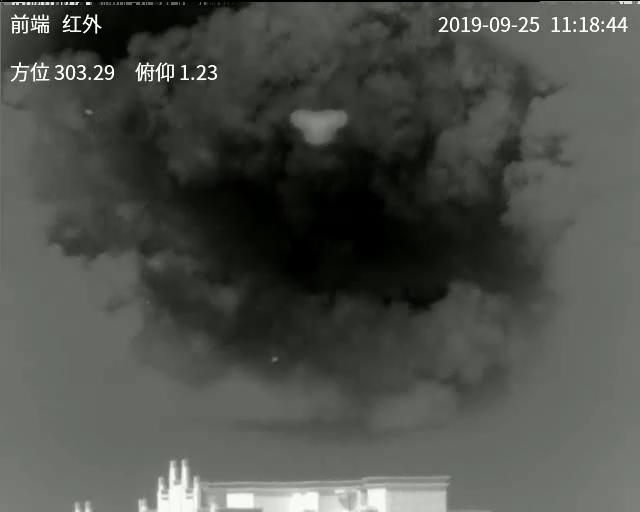uav: (287, 100, 343, 138)
